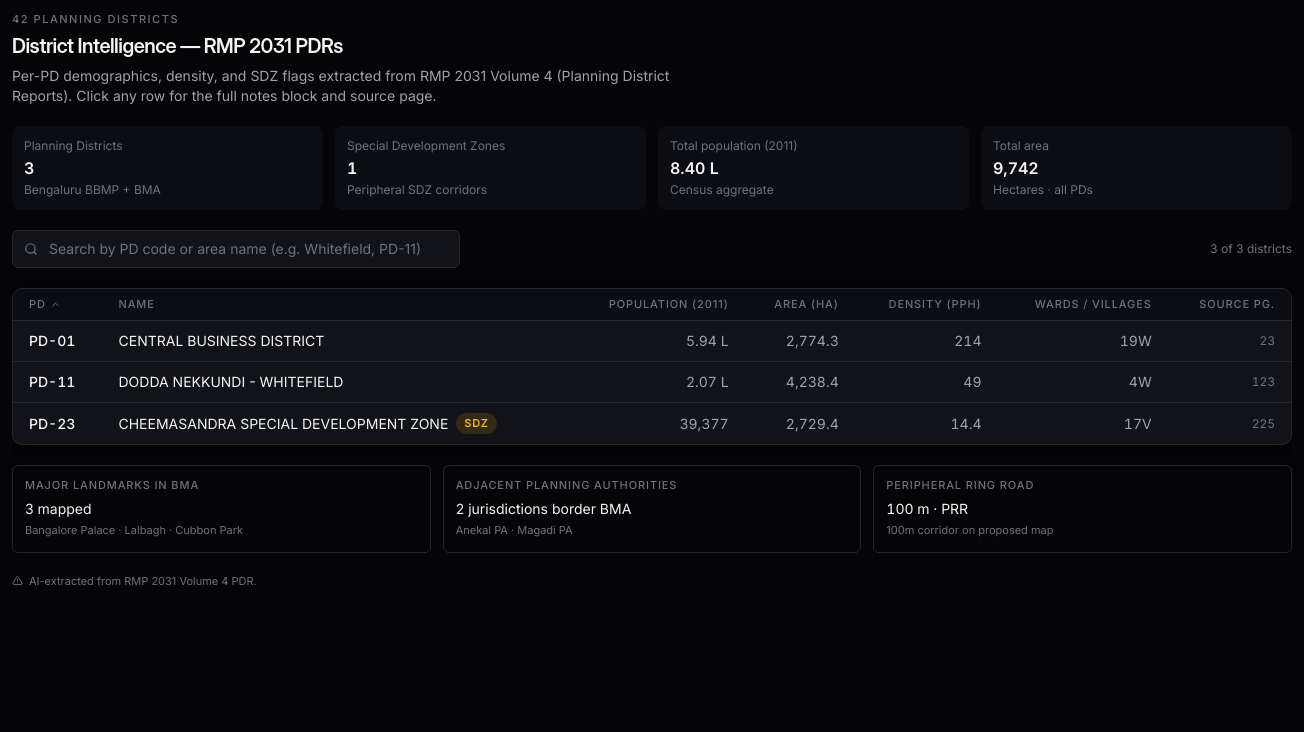
it: DistrictIntelligencePanel › expands a district to show source notes when its row is clicked
Click the text "CENTRAL BUSINESS DISTRICT" at (52, 340), box [13,320,1291,361]
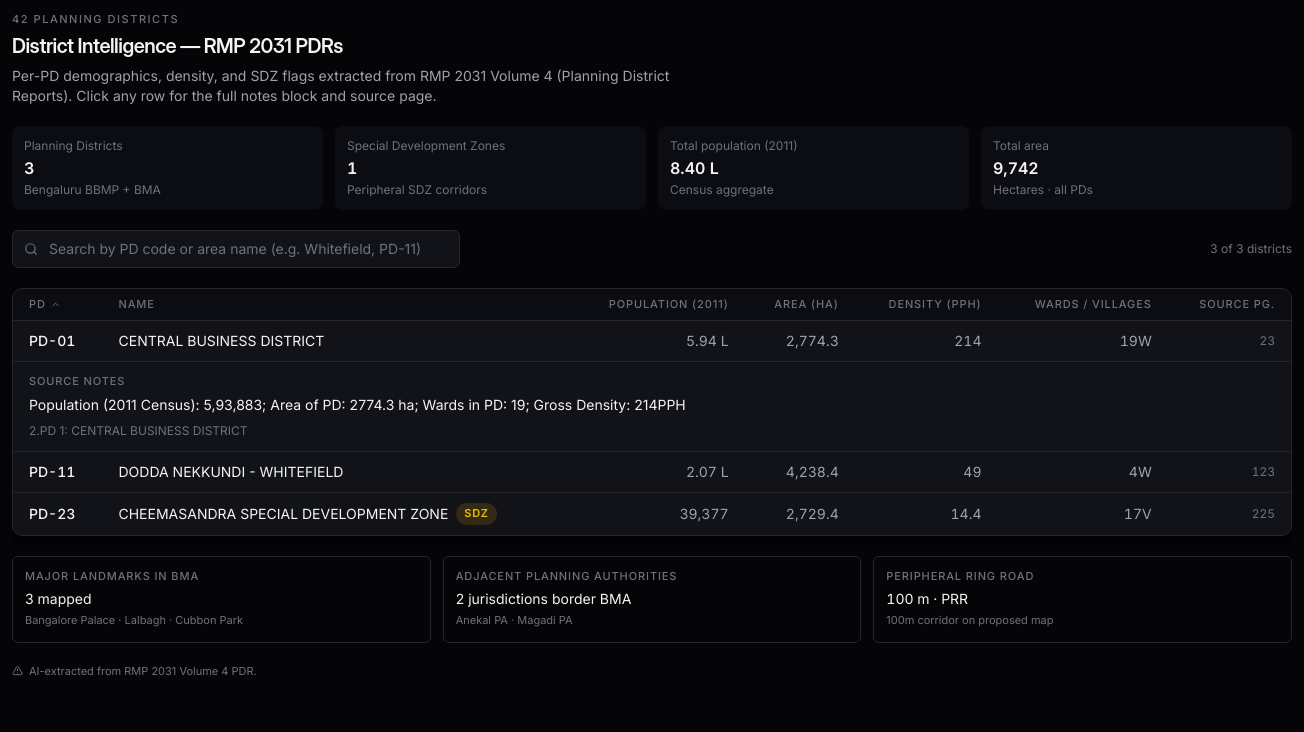
Now the text "Source notes" is shown, box [29,374,125,388]
Now the text "Population (2011 Census): 5,93,883" is shown, box [29,396,686,413]
